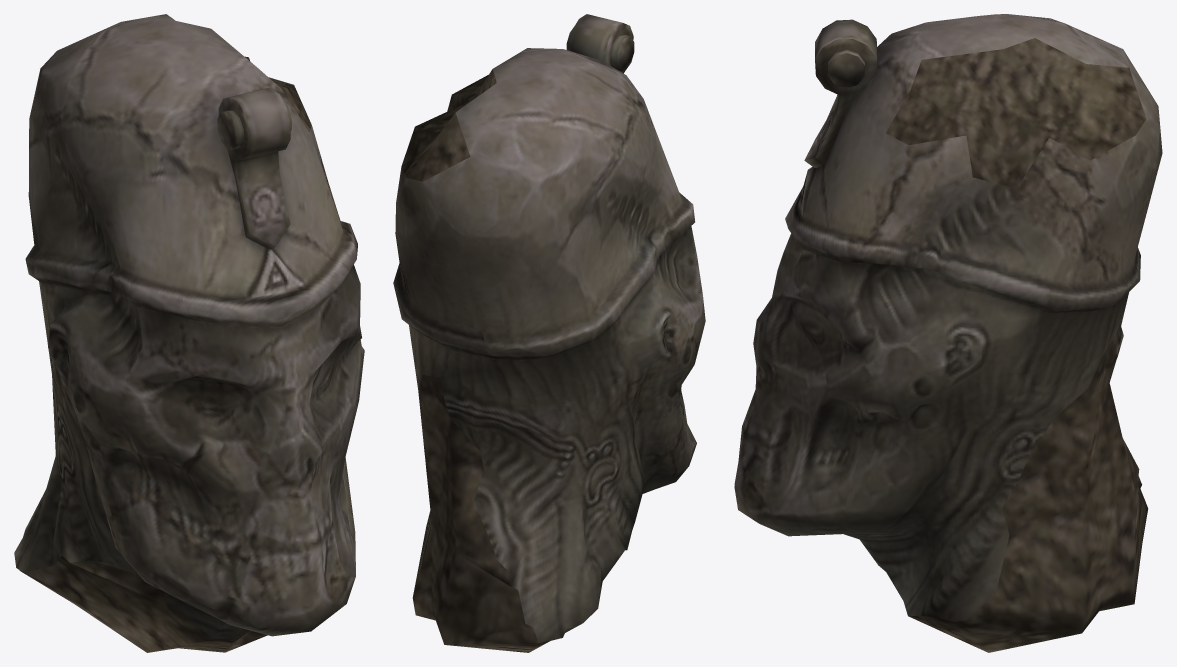
File: dcfx_diaox_01.FBX
3 views of the same model, side by side, from view 1: azimuth 30°, elevation 25°; view 2: azimuth 150°, elevation 25°; view 3: azimuth 270°, elevation 25° (orthographic). The views are drawn at different scales.
Parts seen in each view (by area): view 1: dcfx_diaox_01; view 2: dcfx_diaox_01; view 3: dcfx_diaox_01.
Boxes of the visible parts, box(x1,y1,x2,y2) form: dcfx_diaox_01: box(14, 14, 364, 652); dcfx_diaox_01: box(393, 14, 705, 652); dcfx_diaox_01: box(734, 14, 1162, 652).
Bounding box in the file's own units: 160 × 348 × 223.
